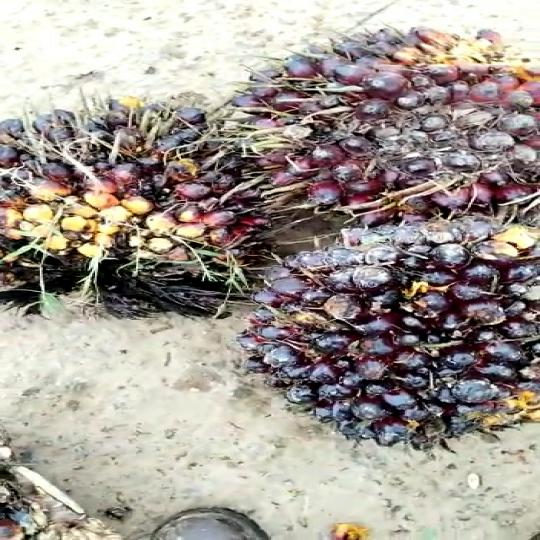kurang masak: (233, 210, 540, 454), (212, 14, 540, 232), (0, 86, 293, 310)
